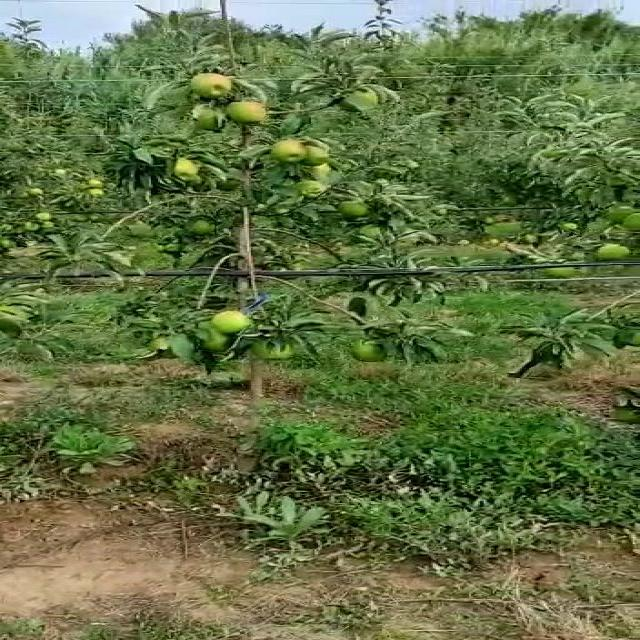100-_ripeness: (189, 72, 231, 96), (340, 86, 380, 111), (271, 138, 311, 161), (228, 100, 266, 124), (255, 339, 298, 360), (349, 340, 389, 362), (211, 312, 249, 335), (196, 110, 231, 133), (298, 148, 331, 169), (595, 243, 629, 262), (155, 340, 187, 358), (174, 156, 197, 181), (198, 335, 231, 350), (294, 181, 324, 196), (348, 202, 368, 214)
